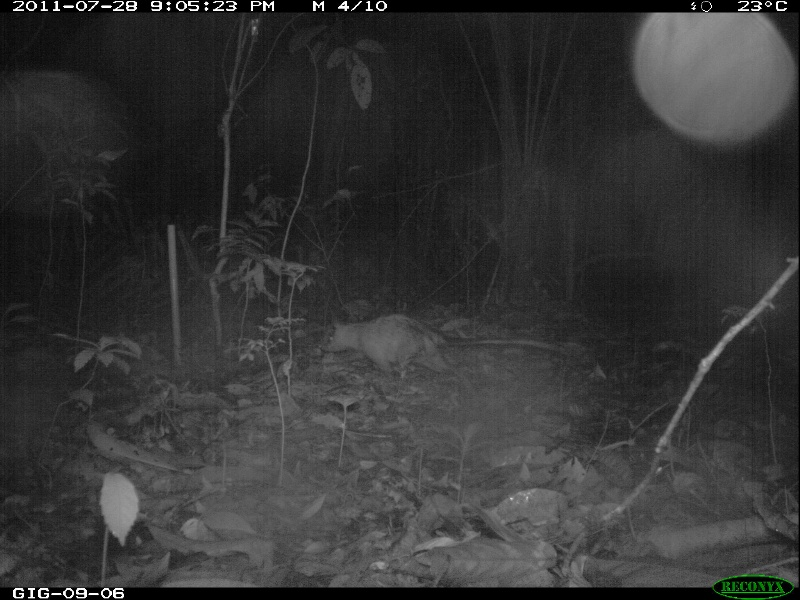opossum: (326, 314, 564, 382)
